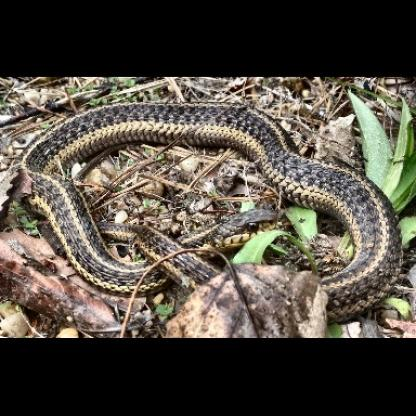Snake: (21, 101, 404, 316)
